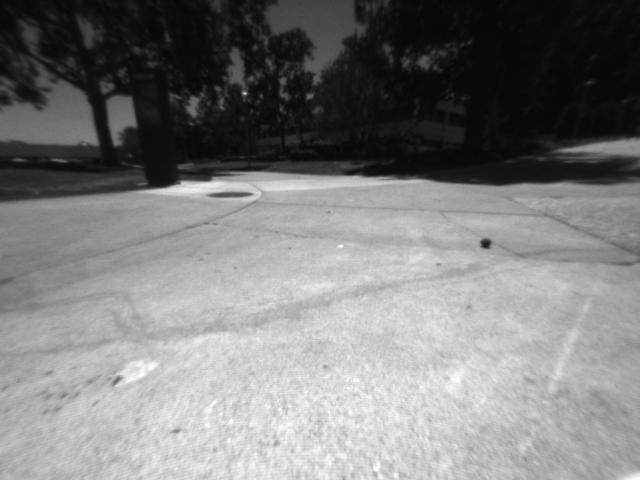dogtoy: (470, 227, 502, 254)
